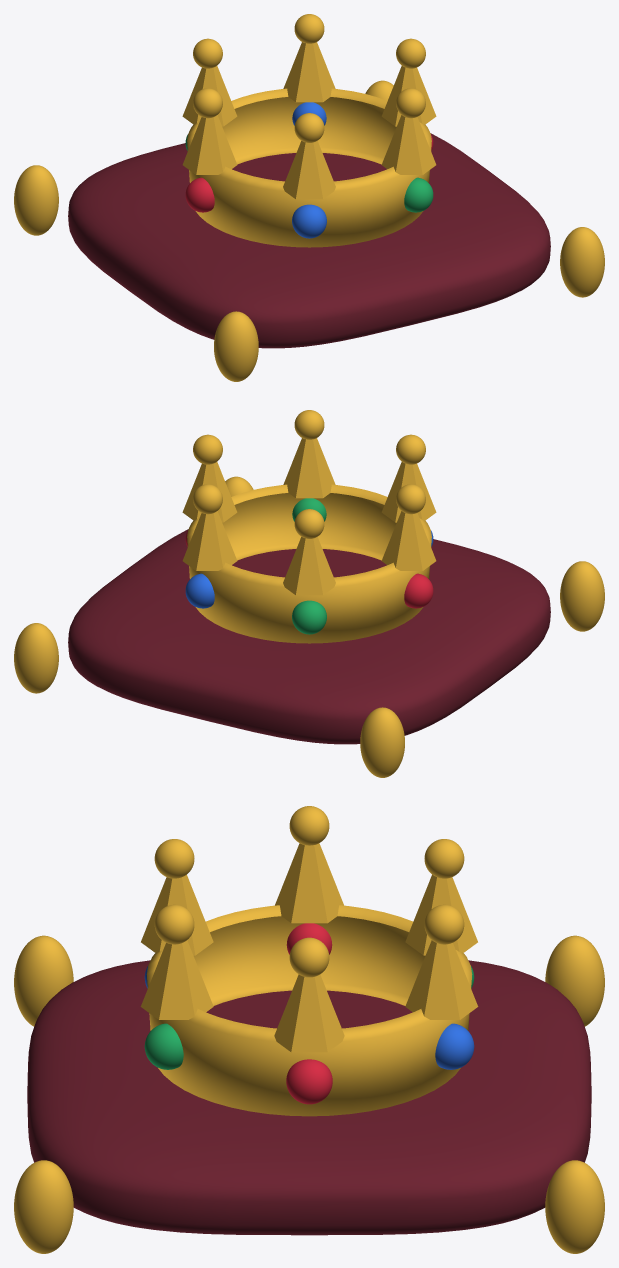
File: corona.glb
The picture shows the model from 3 angles, top to bottom: view 1: azimuth 30°, elevation 25°; view 2: azimuth 150°, elevation 25°; view 3: azimuth 270°, elevation 25°; orthographic projection. The views are drawn at different scales.
Visible parts, largest first — view 1: cojin, aro, borla(-1, 1), borla(1, -1), borla(-1, -1), punta4, punta1, punta3, punta5, punta0, punta2, gema4 (+8 smaller); view 2: cojin, aro, borla(-1, -1), borla(1, 1), borla(-1, 1), punta2, punta5, punta1, punta3, punta0, punta4, gema2 (+8 smaller); view 3: cojin, aro, borla(1, 1), borla(1, -1), punta0, punta3, punta1, punta5, borla(-1, 1), borla(-1, -1), punta2, punta4 (+10 smaller).
Part boxes in pixels (x1,y1,x2,y2): cojin: (68,133,550,348); aro: (187,88,431,247); borla(-1, 1): (14,165,58,235); borla(1, -1): (560,227,604,297); borla(-1, -1): (214,311,258,381); punta4: (283,141,335,199); punta1: (283,42,335,102); punta3: (182,115,237,174); punta5: (381,115,436,174); punta0: (381,66,436,126); punta2: (182,66,237,126); gema4: (292,204,326,238); cojin: (68,529,550,744); aro: (187,484,431,643); borla(-1, -1): (560,561,604,631); borla(1, 1): (14,623,58,693); borla(-1, 1): (360,707,404,777); punta2: (283,537,335,595); punta5: (283,438,335,498); punta1: (182,511,237,570); punta3: (381,511,436,570); punta0: (182,462,237,522); punta4: (381,462,436,522); gema2: (292,600,326,634); cojin: (27,960,591,1235); aro: (146,905,472,1116); borla(1, 1): (545,1160,604,1253); borla(1, -1): (14,1160,73,1253); punta0: (274,974,344,1052); punta3: (275,843,343,923); punta1: (405,940,478,1019); punta5: (140,940,213,1019); borla(-1, 1): (545,935,604,1026); borla(-1, -1): (14,935,73,1026); punta2: (405,874,477,955); punta4: (141,874,213,955).
Size of the model in its own units: 0.356 by 0.177 by 0.356.
